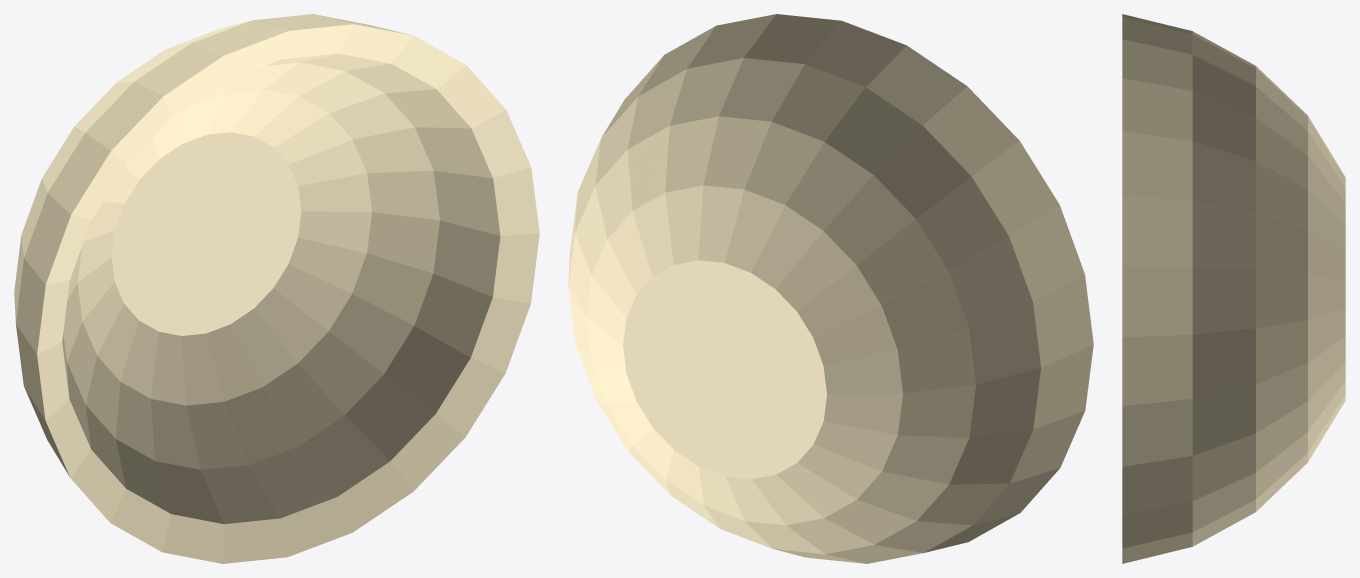
File: model_scale.obj
3 views of the same model, side by side, from view 1: azimuth 30°, elevation 25°; view 2: azimuth 150°, elevation 25°; view 3: azimuth 270°, elevation 25° (orthographic). The views are drawn at different scales.
Parts seen in each view (by area): view 1: mesh1_mesh1-geometry; view 2: mesh1_mesh1-geometry; view 3: mesh1_mesh1-geometry.
Part boxes in pixels (x1=…): mesh1_mesh1-geometry: x1=14, y1=14, x2=539, y2=563; mesh1_mesh1-geometry: x1=568, y1=14, x2=1093, y2=563; mesh1_mesh1-geometry: x1=1122, y1=14, x2=1345, y2=563.
Bounding box in the file's own units: 0.1558 × 0.1558 × 0.063.
